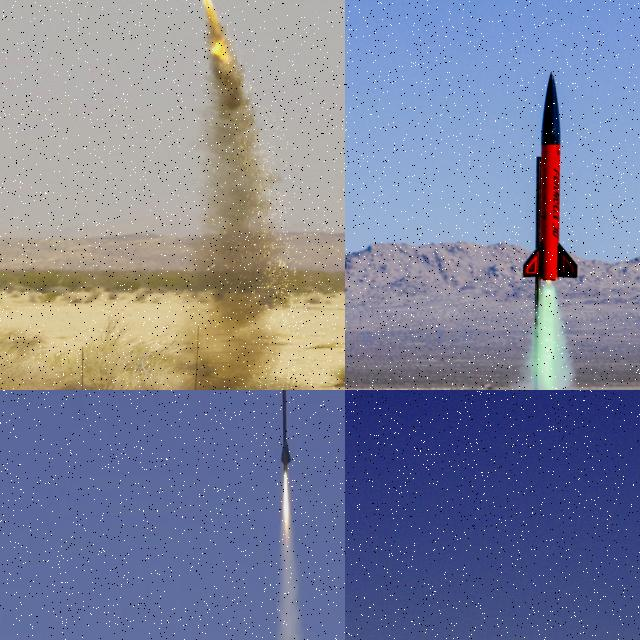Rocket: (522, 70, 580, 282), (279, 390, 292, 478)
